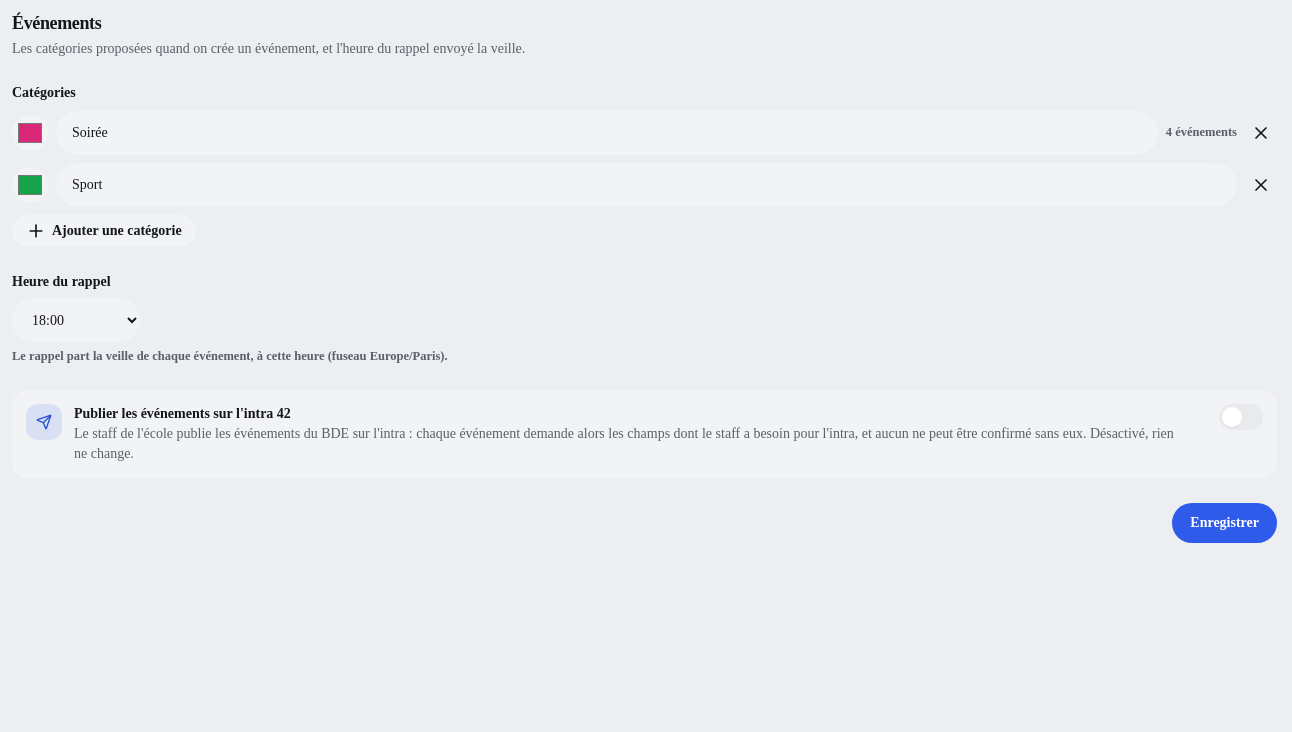
Test case: the events section › lets one change one’s mind about a removal
What coordinates should you click on to do the following:
click the button named "Retirer Sport"
I would click on:
 (1261, 185)
Its box is [1245,169,1277,201].
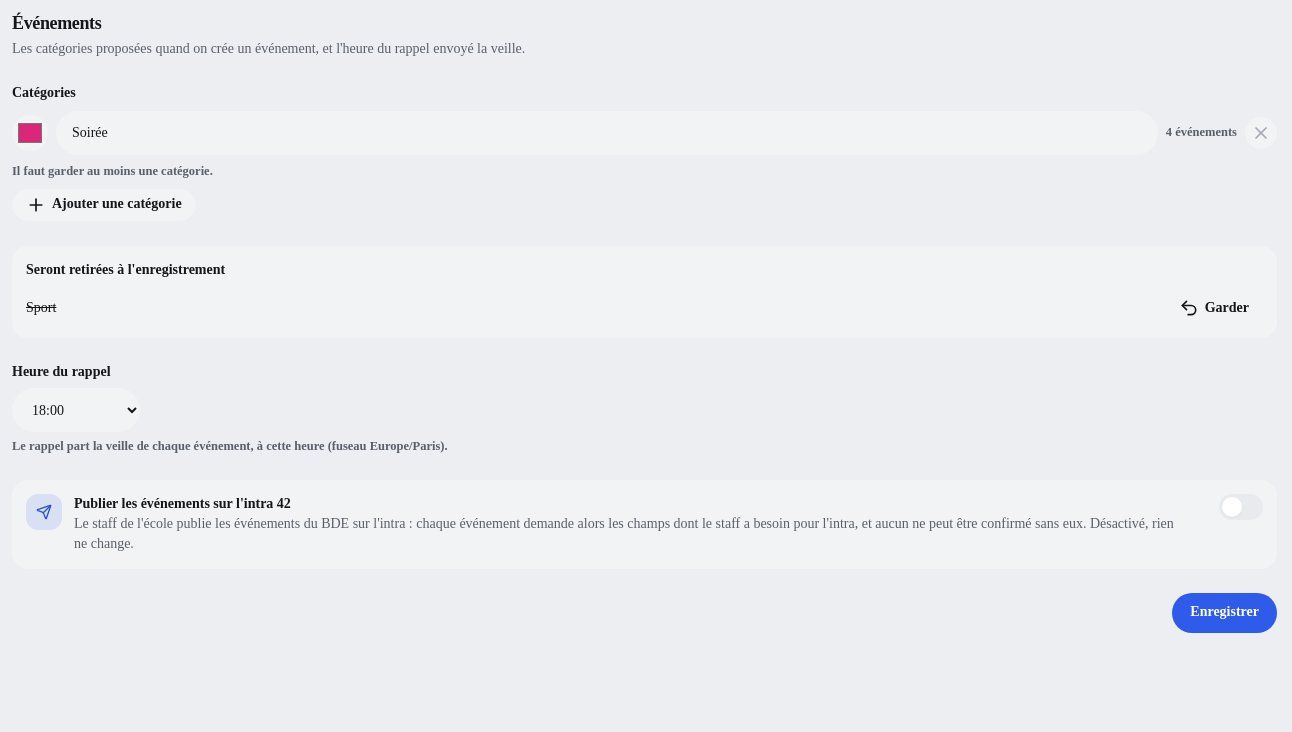
What coordinates should you click on to do the following:
click the button "Garder"
I would click on:
 (1214, 308)
Its box is [1165,292,1263,324].
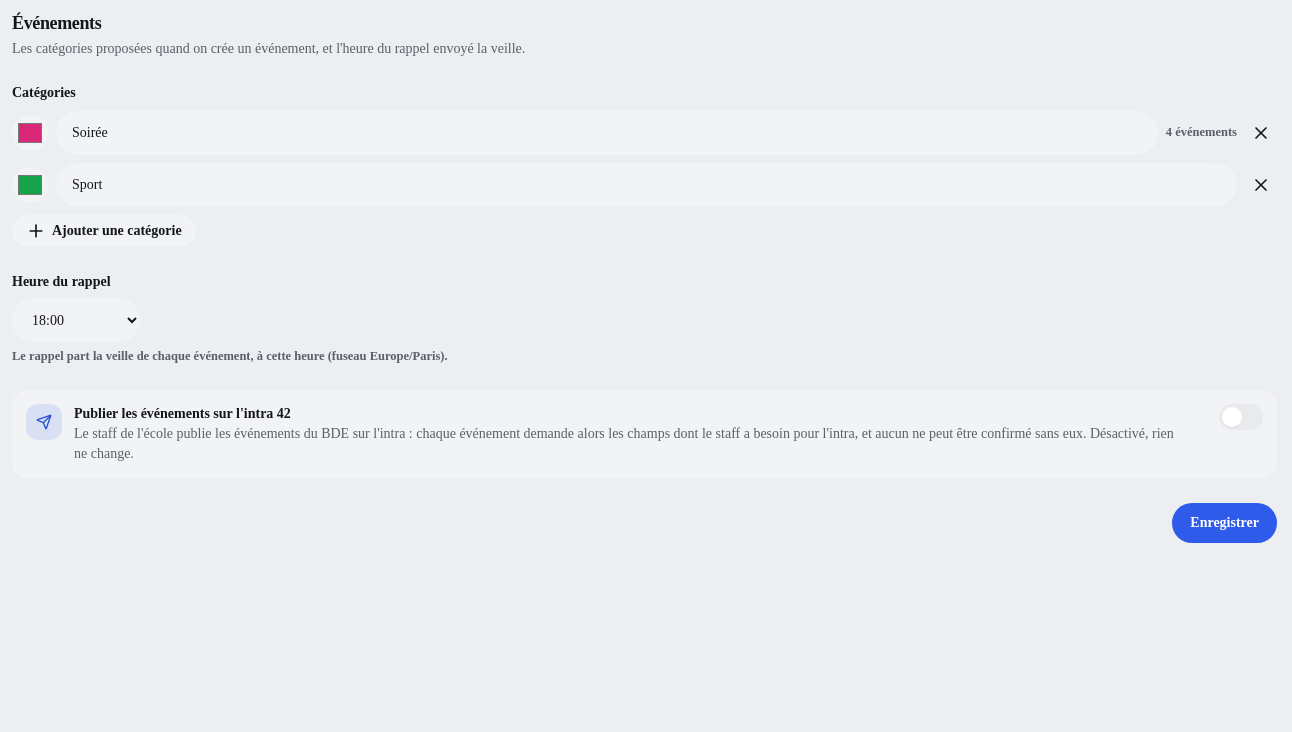
Now the field named "Nom de la catégorie 2" holds "Sport", box [56,163,1237,207]
Now the text "Seront retirées à l'enregistrement" is gone
